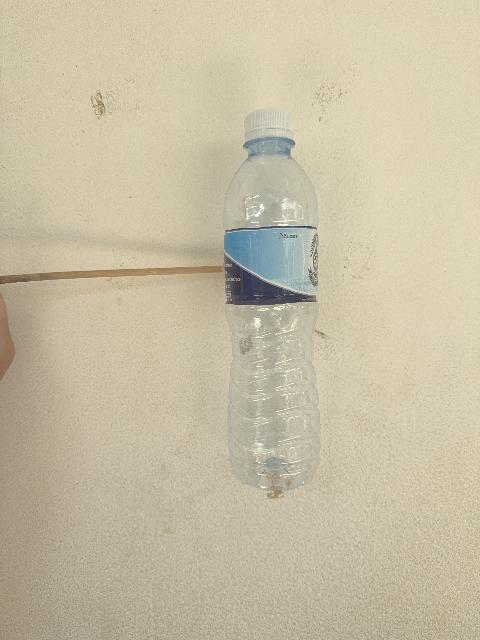bottle: (224, 110, 319, 496)
